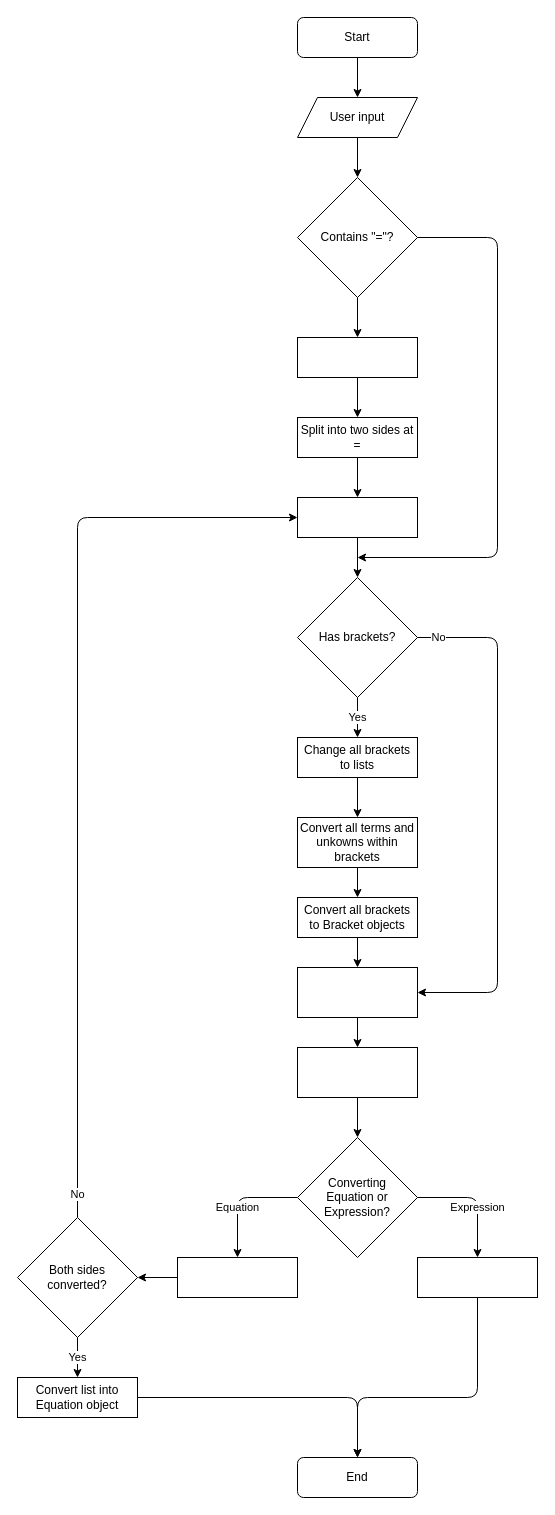
Image size: 555x1515. Some labels were removed from this diagram. The shapes that lost their labels are listed below. From the top down, each one's centre as x and y in pixels, then its label:
At point 357,357: "Remove all spaces".
At point 357,517: "Next side".
At point 357,992: "Collect all terms and convert them to Term objects".
At point 357,1072: "Collect all unknowns and convert them to Variable objects".
At point 237,1277: "Store side in list".
At point 477,1277: "Return Bracket object".
